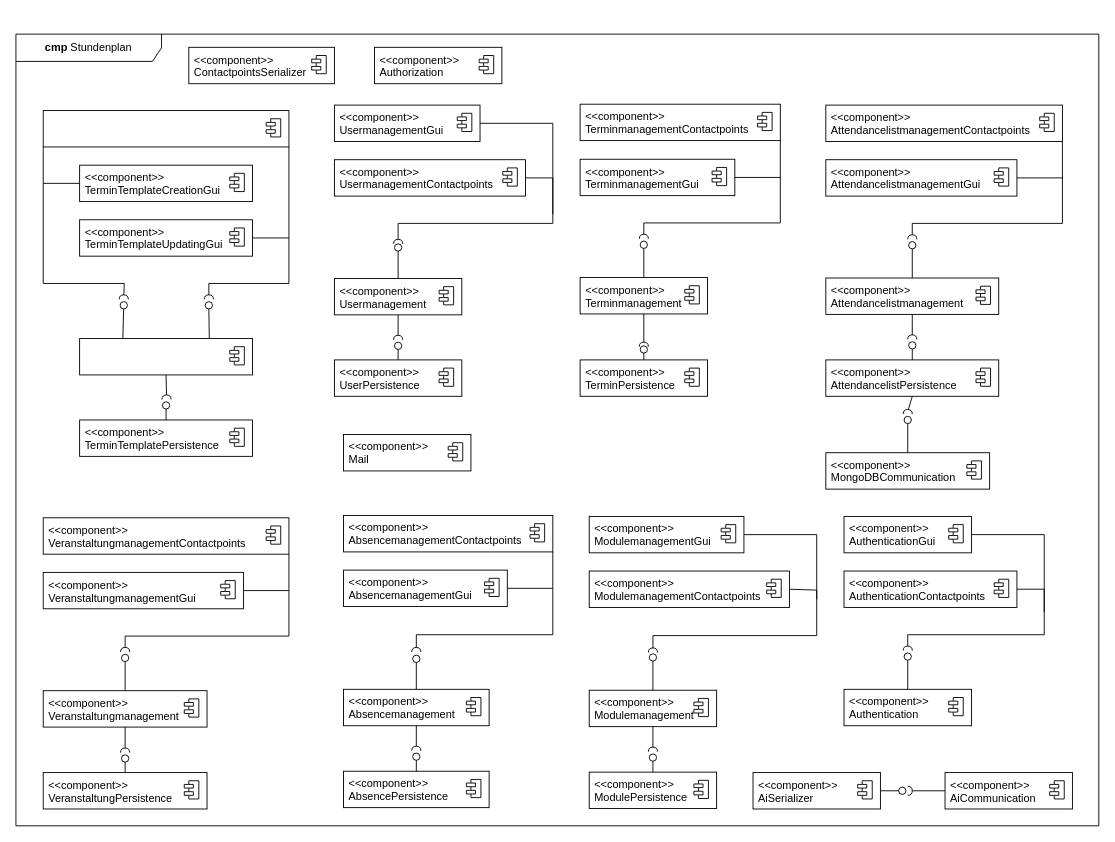
Image size: 1115x842. Some labels were removed from this diagram. Here are the shapes that lost their labels. From the top down, the centre of each, then its label:
At point (165, 128): "<<component>> TerminTemplatemanagementContactpoints".
At point (166, 356): "<<component>> TerminTemplatemanagement".
